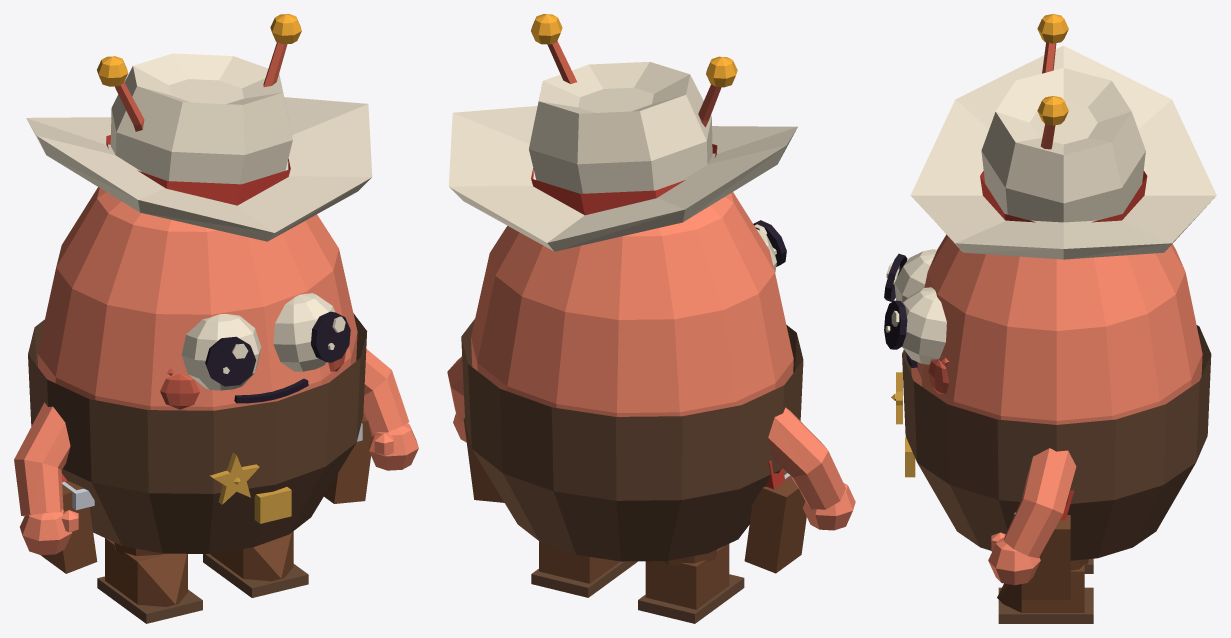
The model's file is Char_Native_Sheriff.obj.
3 views of the same model, side by side, from view 1: azimuth 30°, elevation 25°; view 2: azimuth 150°, elevation 25°; view 3: azimuth 270°, elevation 25° (orthographic). The views are drawn at different scales.
Visible parts, largest first — view 1: Char_Native_Sheriff_Body, Char_Native_Sheriff_Head, Char_Native_Sheriff_Arm_R, Char_Native_Sheriff_Leg_R, Char_Native_Sheriff_Arm_L, Char_Native_Sheriff_Leg_L; view 2: Char_Native_Sheriff_Body, Char_Native_Sheriff_Arm_R, Char_Native_Sheriff_Leg_R, Char_Native_Sheriff_Head, Char_Native_Sheriff_Leg_L, Char_Native_Sheriff_Arm_L; view 3: Char_Native_Sheriff_Body, Char_Native_Sheriff_Head, Char_Native_Sheriff_Arm_L, Char_Native_Sheriff_Leg_L.
Part boxes in pixels (left/top/right/bottom): Char_Native_Sheriff_Body: left=26, top=53, right=372, bottom=573; Char_Native_Sheriff_Head: left=97, top=14, right=350, bottom=409; Char_Native_Sheriff_Arm_R: left=14, top=402, right=78, bottom=555; Char_Native_Sheriff_Leg_R: left=97, top=538, right=202, bottom=623; Char_Native_Sheriff_Arm_L: left=363, top=349, right=418, bottom=470; Char_Native_Sheriff_Leg_L: left=203, top=531, right=308, bottom=597; Char_Native_Sheriff_Body: left=448, top=61, right=806, bottom=573; Char_Native_Sheriff_Arm_R: left=768, top=407, right=855, bottom=530; Char_Native_Sheriff_Leg_R: left=638, top=544, right=744, bottom=623; Char_Native_Sheriff_Head: left=531, top=14, right=786, bottom=272; Char_Native_Sheriff_Leg_L: left=531, top=541, right=637, bottom=597; Char_Native_Sheriff_Arm_L: left=447, top=356, right=466, bottom=442; Char_Native_Sheriff_Body: left=891, top=45, right=1216, bottom=600; Char_Native_Sheriff_Head: left=884, top=14, right=1068, bottom=394; Char_Native_Sheriff_Arm_L: left=988, top=448, right=1076, bottom=585; Char_Native_Sheriff_Leg_L: left=997, top=559, right=1093, bottom=623.
Size of the model in its own units: 1.25 by 1.67 by 0.9476.
